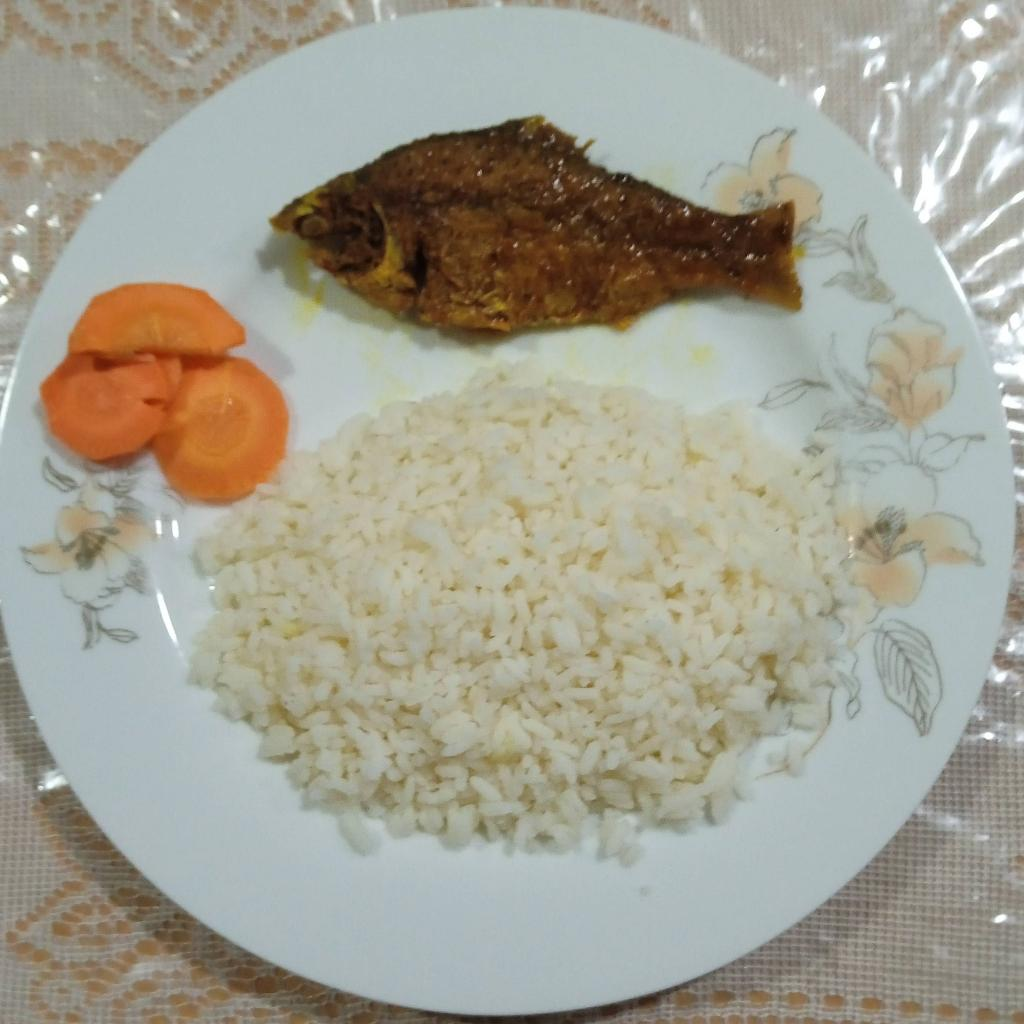carrot: (40, 284, 294, 505)
fish: (272, 119, 802, 333)
rice: (192, 365, 881, 864)
